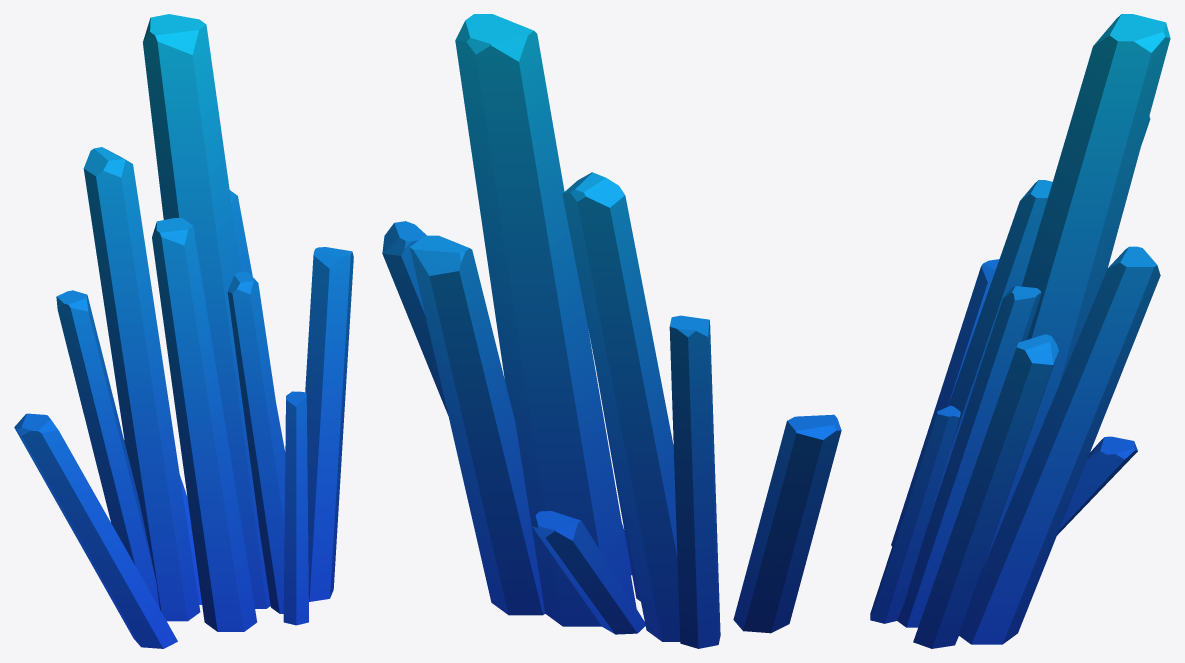
The model's file is Crystal-MlhTJAFuJY.glb.
The picture shows the model from 3 angles, left to right: view 1: azimuth 30°, elevation 25°; view 2: azimuth 150°, elevation 25°; view 3: azimuth 270°, elevation 25°; orthographic projection. The views are drawn at different scales.
Visible parts, largest first — view 1: crystal_22; view 2: crystal_22; view 3: crystal_22.
Boxes of the visible parts, left/top/right/bottom form: crystal_22: left=14, top=14, right=353, bottom=648; crystal_22: left=382, top=14, right=841, bottom=648; crystal_22: left=870, top=14, right=1170, bottom=648.
Size of the model in its own units: 8.06 by 11.4 by 5.32.
1 material, 1 textured.
